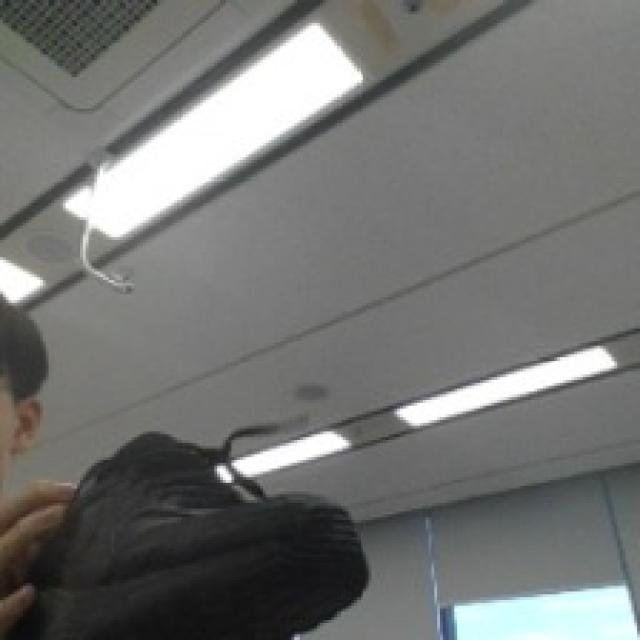shoe: (28, 305, 392, 640)
